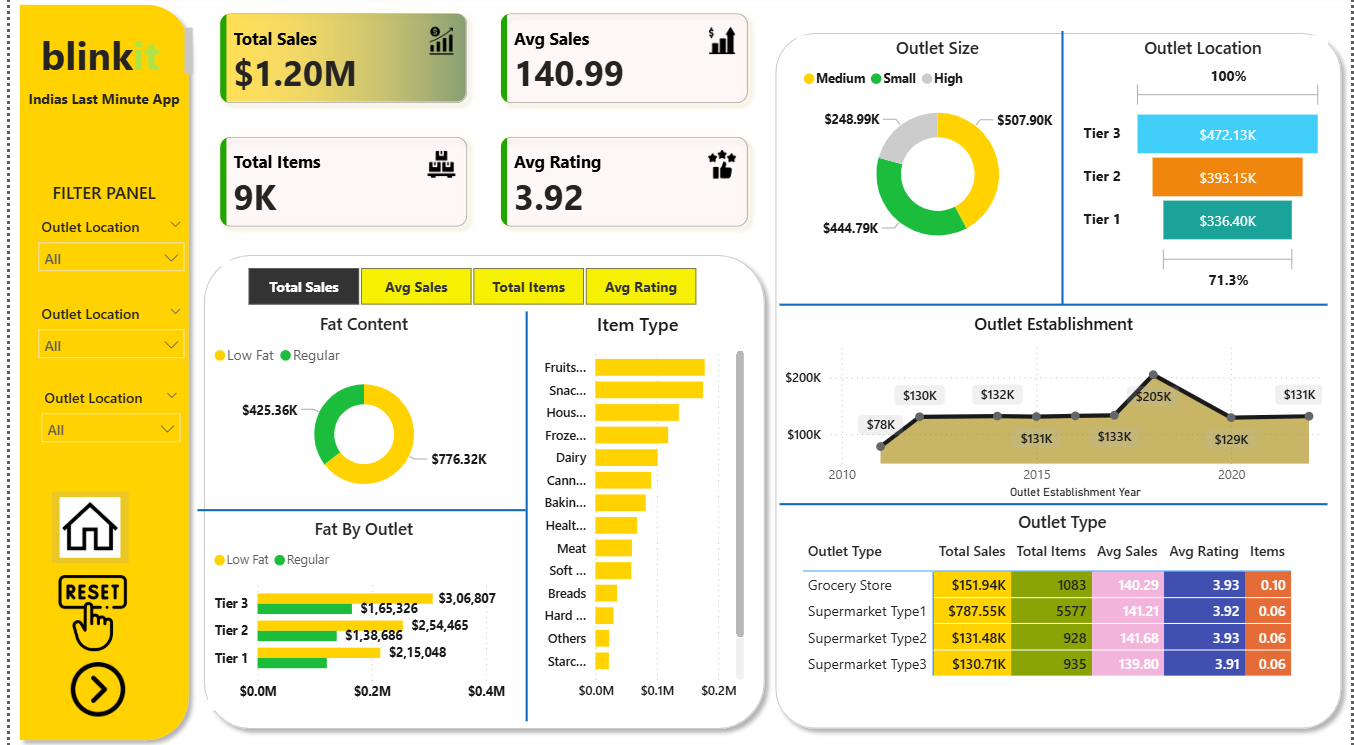

What the dashboard file says about the page in this screenshot:
{"tool":"powerbi","page":{"name":"Home","canvas":[1280,720],"ordinal":0},"visuals":[{"type":"shape","box":[0,0,179.7,720.5],"z":0},{"type":"textbox","box":[0,26.5,179.5,56.7],"z":1000},{"type":"textbox","box":[0,84.3,179.7,35],"z":2000},{"type":"cardVisual","fields":{"Data":["BlinkIT Grocery Data.Total Sales","BlinkIT Grocery Data.Avg Sales","BlinkIT Grocery Data.Total Items","BlinkIT Grocery Data.Avg Rating"]},"box":[182.9,0,539.2,238.6],"z":3000},{"type":"shape","box":[176.6,238.6,553.5,470.8],"z":4000},{"type":"slicer","fields":{"Values":["Parameter.Parameter"]},"box":[202,252.9,477.2,49.3],"z":5000},{"type":"donutChart","title":" Fat Content","fields":{"Y":["BlinkIT Grocery Data.Total Sales"],"Category":["BlinkIT Grocery Data.Item Fat Content"]},"box":[189.3,302.2,297.4,182.9],"z":6000},{"type":"clusteredBarChart","title":"Fat By Outlet","fields":{"Y":["BlinkIT Grocery Data.Total Sales"],"Category":["BlinkIT Grocery Data.Outlet Location Type"],"Series":["BlinkIT Grocery Data.Item Fat Content"]},"box":[189.3,497.9,297.4,184.5],"z":7000},{"type":"barChart","title":" Item Type","fields":{"Y":["BlinkIT Grocery Data.Total Sales"],"Category":["BlinkIT Grocery Data.Item Type"]},"box":[493.1,302.2,213.1,380.2],"z":8000},{"type":"shape","box":[179.7,485.1,313.4,12.7],"z":9000},{"type":"shape","box":[486.7,302.2,12.7,391.3],"z":10000},{"type":"shape","box":[722.1,27,558.3,682.4],"z":11000},{"type":"donutChart","title":"Outlet Size","fields":{"Y":["BlinkIT Grocery Data.Total Sales"],"Category":["BlinkIT Grocery Data.Outlet Size"]},"box":[752.4,38.2,267.2,214.7],"z":12000},{"type":"funnel","title":" Outlet Location","fields":{"Category":["BlinkIT Grocery Data.Outlet Location Type"],"Y":["BlinkIT Grocery Data.Total Sales"]},"box":[1019.6,38.2,238.6,248.1],"z":13000},{"type":"lineChart","title":" Outlet Establishment ","fields":{"Y":["BlinkIT Grocery Data.Total Sales"],"Category":["BlinkIT Grocery Data.Outlet Establishment Year"]},"box":[734.9,302.2,523.3,182.9],"z":14000},{"type":"pivotTable","title":"Outlet Type","fields":{"Rows":["BlinkIT Grocery Data.Outlet Type"],"Values":["BlinkIT Grocery Data.Total Sales","BlinkIT Grocery Data.Total Items","BlinkIT Grocery Data.Avg Sales","BlinkIT Grocery Data.Avg Rating","Avg(BlinkIT Grocery Data.Item Visibility)"]},"box":[752.4,491.5,505.8,190.9],"z":15000},{"type":"shape","box":[734.9,289.5,523.3,12.7],"z":16000},{"type":"shape","box":[734.9,480.4,523.3,12.7],"z":17000},{"type":"shape","box":[987.8,35,33.4,260.9],"z":18000},{"type":"slicer","fields":{"Values":["BlinkIT Grocery Data.Outlet Location Type"]},"box":[17.5,206.8,159.1,65.2],"z":19000},{"type":"slicer","fields":{"Values":["BlinkIT Grocery Data.Outlet Size"]},"box":[17.5,289.5,159.1,65.2],"z":20000},{"type":"slicer","fields":{"Values":["BlinkIT Grocery Data.Item Type"]},"box":[20.7,369,152.7,65.2],"z":21000},{"type":"textbox","box":[0,171.8,179.7,35],"z":22000},{"type":"image","box":[39.8,474,73.2,68.4],"z":23000},{"type":"actionButton","box":[39.8,474,73.2,68.4],"z":24000},{"type":"actionButton","title":"Reset","box":[27,566.2,119.4,82.8],"z":25000},{"type":"actionButton","box":[36.6,649,92.4,40.4],"z":25001},{"type":"actionButton","box":[55.8,649,40.4,40.4],"z":25002}]}

Visuals, with their boxes in screenshot pixels (x1, y1, x2, y2), scaled from the page's 1280x720 canvas onto the 1354x745 screenshot:
shape: BBox(0, 0, 190, 744)
textbox: BBox(0, 27, 190, 86)
textbox: BBox(0, 87, 190, 123)
cardVisual - BlinkIT Grocery Data.Total Sales x BlinkIT Grocery Data.Avg Sales: BBox(193, 0, 764, 247)
shape: BBox(187, 247, 772, 734)
slicer - Parameter.Parameter: BBox(214, 262, 718, 313)
" Fat Content" donutChart: BBox(200, 313, 515, 502)
"Fat By Outlet" clusteredBarChart: BBox(200, 515, 515, 706)
" Item Type" barChart: BBox(522, 313, 747, 706)
shape: BBox(190, 502, 522, 515)
shape: BBox(515, 313, 528, 718)
shape: BBox(764, 28, 1353, 734)
"Outlet Size" donutChart: BBox(796, 40, 1079, 262)
" Outlet Location" funnel: BBox(1079, 40, 1331, 296)
" Outlet Establishment " lineChart: BBox(777, 313, 1331, 502)
"Outlet Type" pivotTable: BBox(796, 509, 1331, 706)
shape: BBox(777, 300, 1331, 313)
shape: BBox(777, 497, 1331, 510)
shape: BBox(1045, 36, 1080, 306)
slicer - BlinkIT Grocery Data.Outlet Location Type: BBox(19, 214, 187, 281)
slicer - BlinkIT Grocery Data.Outlet Size: BBox(19, 300, 187, 367)
slicer - BlinkIT Grocery Data.Item Type: BBox(22, 382, 183, 449)
textbox: BBox(0, 178, 190, 214)
image: BBox(42, 490, 120, 561)
actionButton: BBox(42, 490, 120, 561)
"Reset" actionButton: BBox(29, 586, 155, 672)
actionButton: BBox(39, 672, 136, 713)
actionButton: BBox(59, 672, 102, 713)
